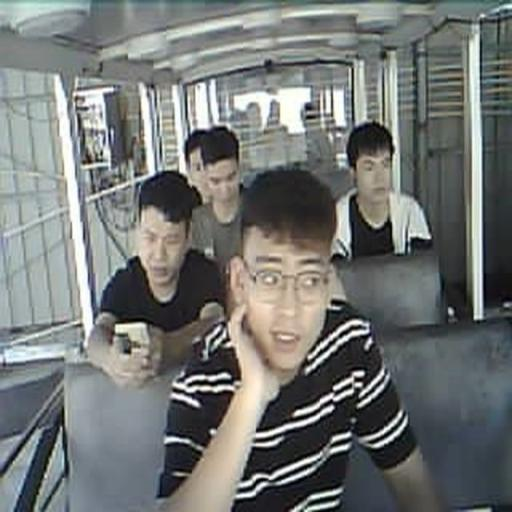persona: (154, 165, 448, 511), (86, 169, 230, 388), (330, 120, 433, 262), (183, 124, 250, 273), (181, 130, 214, 205)
